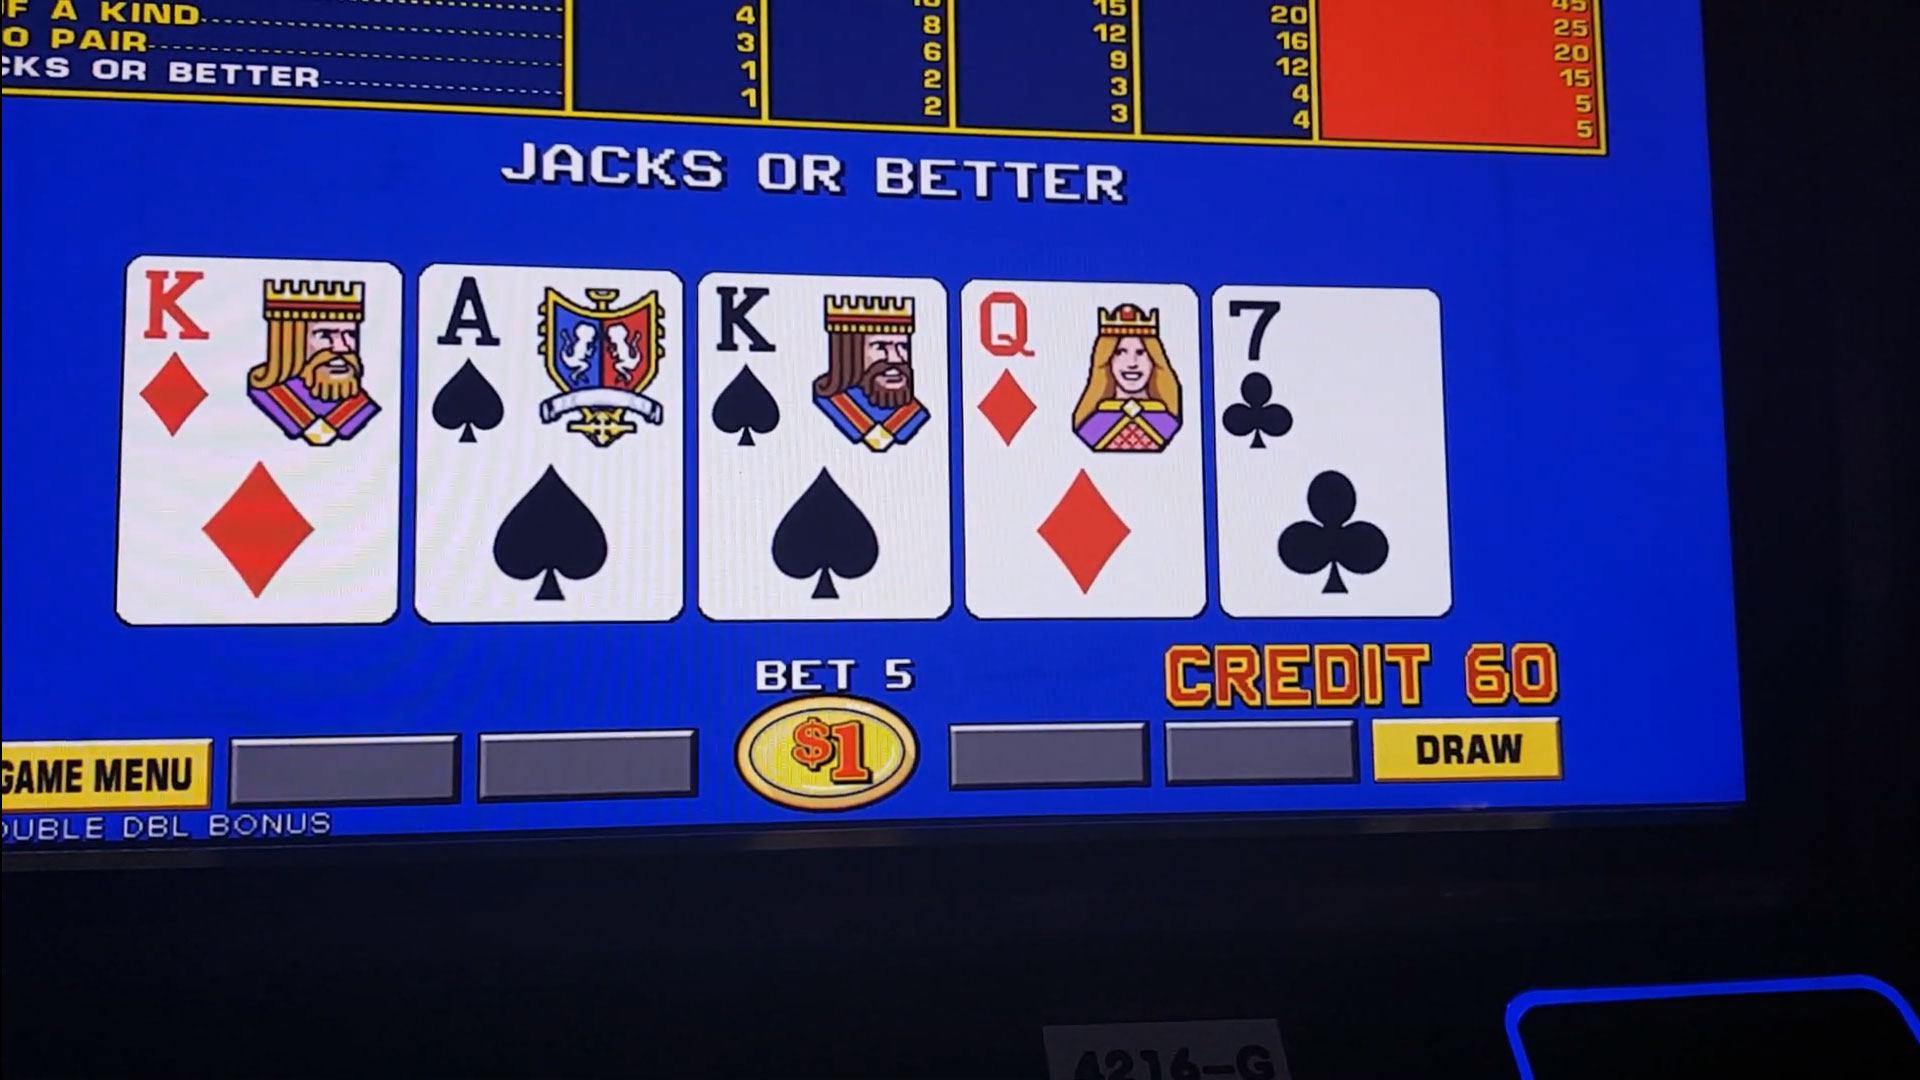C7: (1218, 291, 1439, 458)
DK: (135, 269, 398, 444)
DQ: (969, 291, 1193, 455)
SA: (425, 278, 678, 451)
SK: (705, 277, 951, 458)
